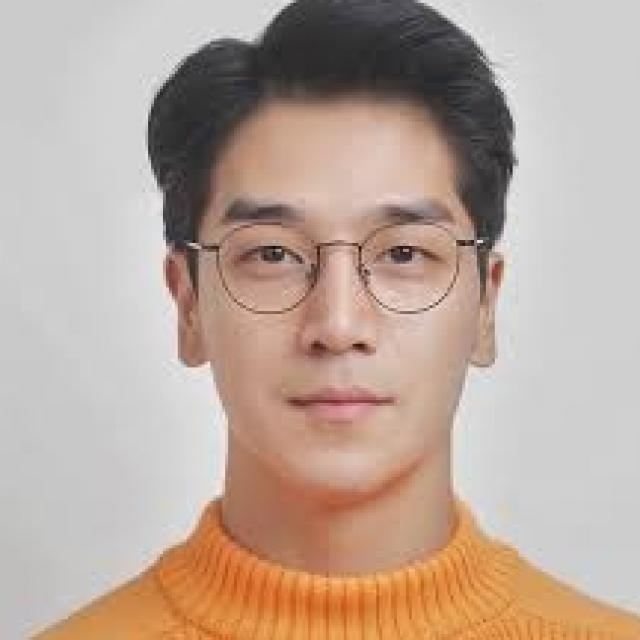Glasses: (172, 210, 504, 320)
